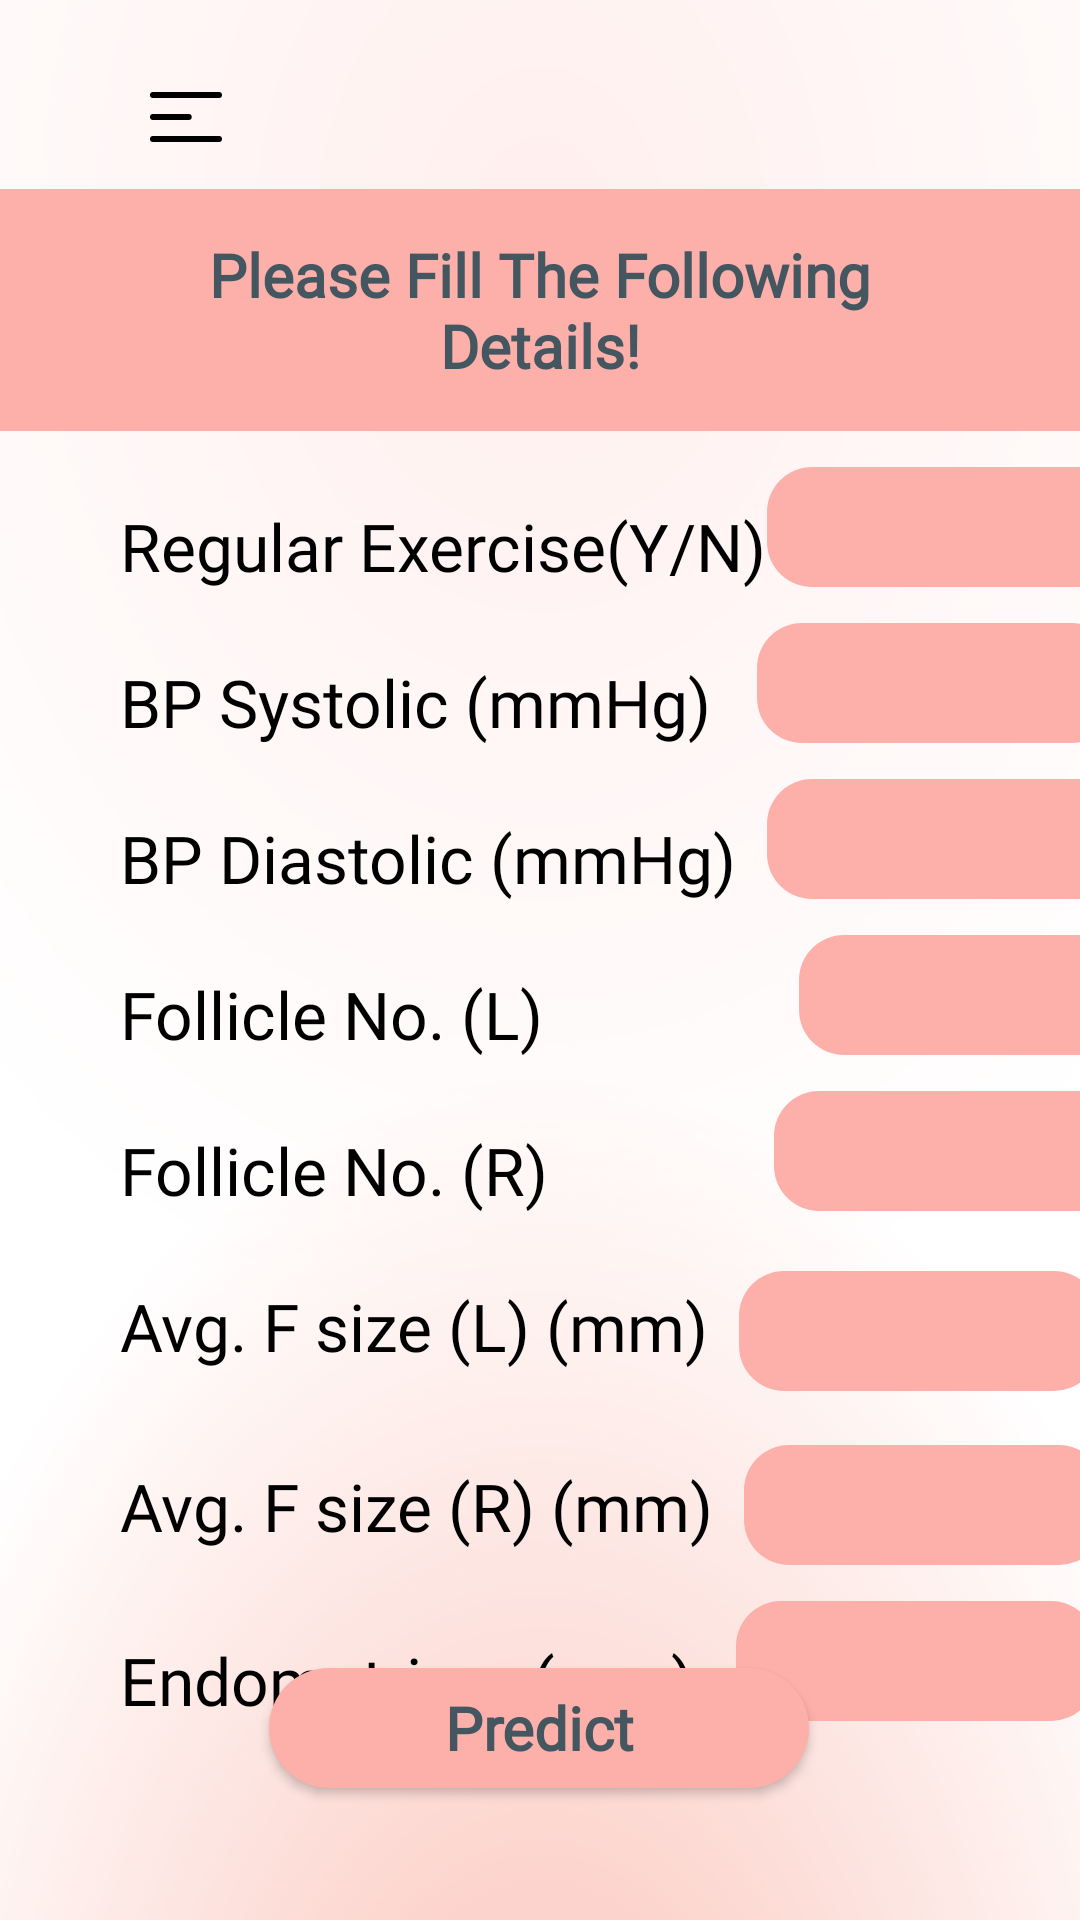

Where to tap for icons on this 1080w x 1920h app screen, as (x,y):
hamburger: (186,117)
